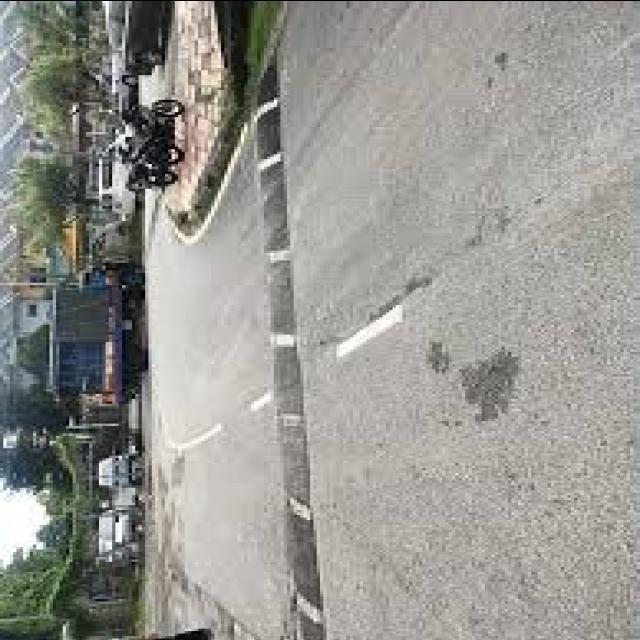speedbreaker: (253, 48, 323, 638)
